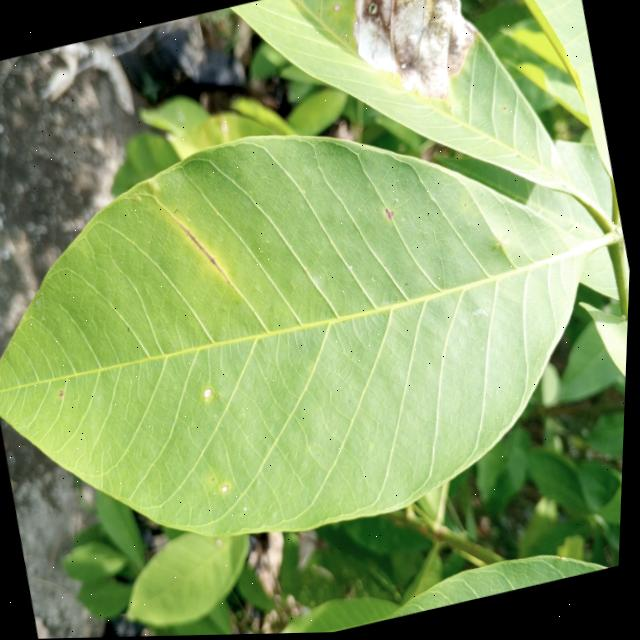Colletotrichum: (205, 389, 215, 399), (224, 486, 231, 493), (60, 390, 66, 397)
Corynespora: (173, 211, 231, 289)
Leaf-Blight: (337, 0, 491, 118)
